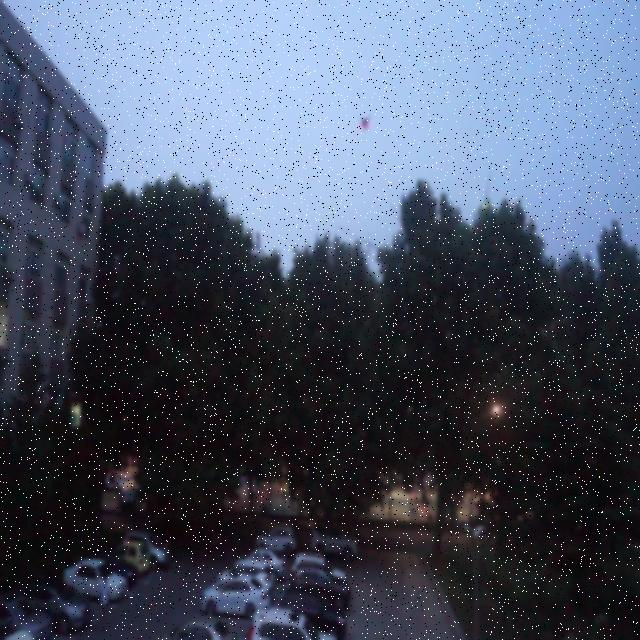UAV: (358, 115, 371, 132)
